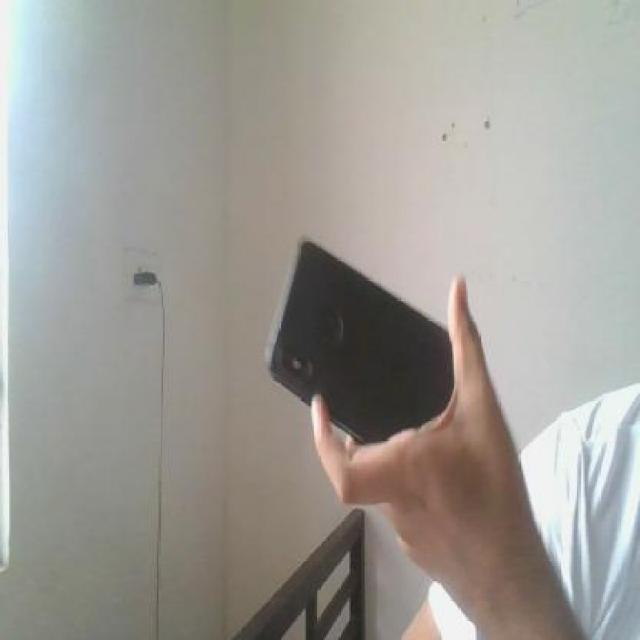Phone: (268, 237, 452, 448)
